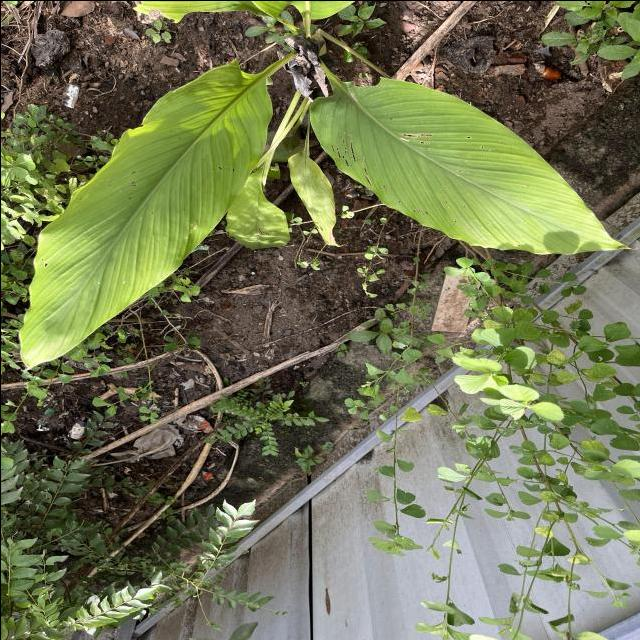Curcuma longa: (13, 51, 279, 384), (294, 67, 640, 260)
